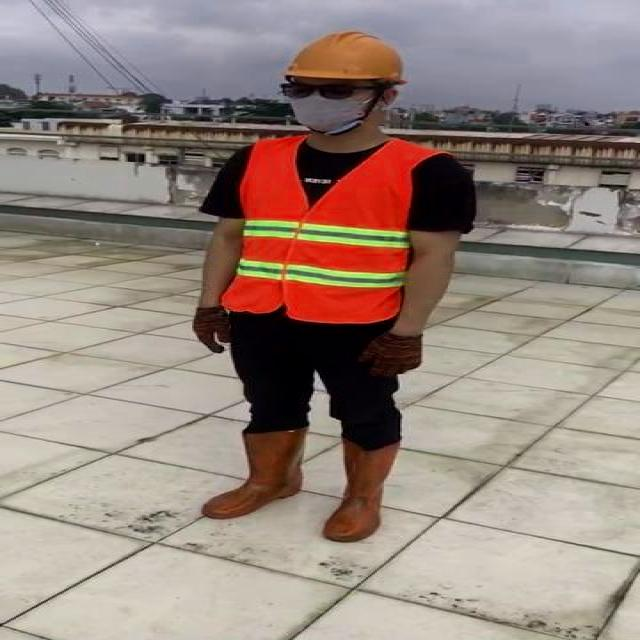boots: (199, 425, 309, 521), (320, 443, 402, 544)
face_mask: (284, 75, 377, 136)
glasses: (276, 77, 372, 106)
hand_glove: (361, 330, 427, 375), (190, 308, 230, 357)
head_helmet: (282, 28, 412, 86)
person: (172, 22, 480, 540)
vest: (226, 134, 414, 323)
